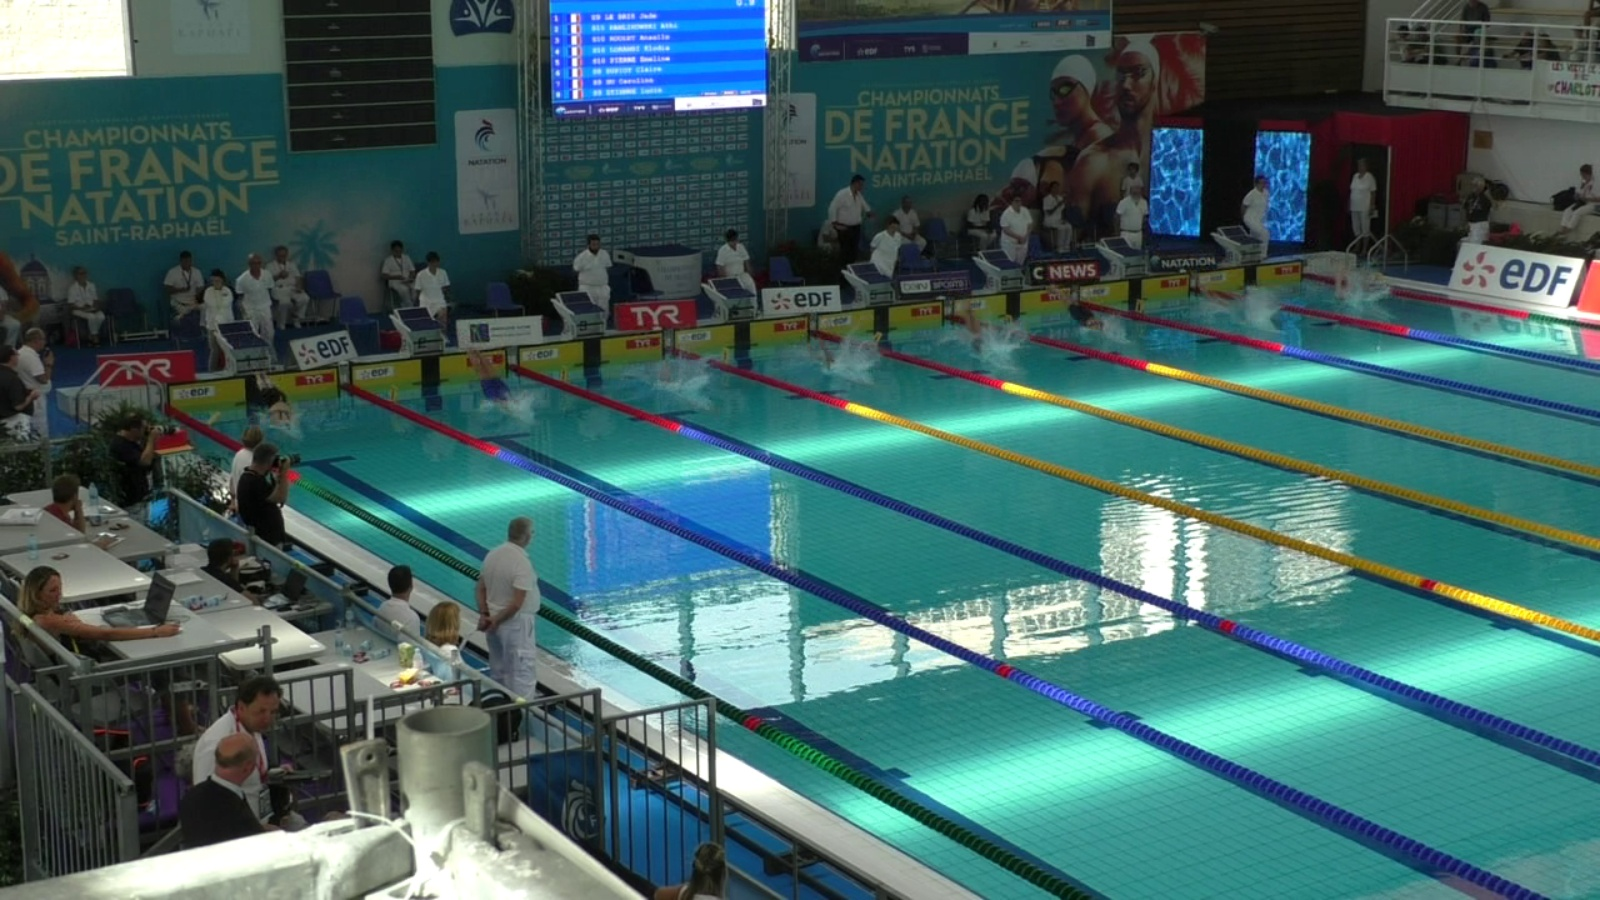swimmerw: (455, 344, 526, 416), (243, 376, 311, 449), (1043, 279, 1118, 343), (953, 304, 1003, 369), (1191, 277, 1262, 321), (633, 369, 711, 408), (1322, 260, 1374, 311), (814, 332, 862, 384)
